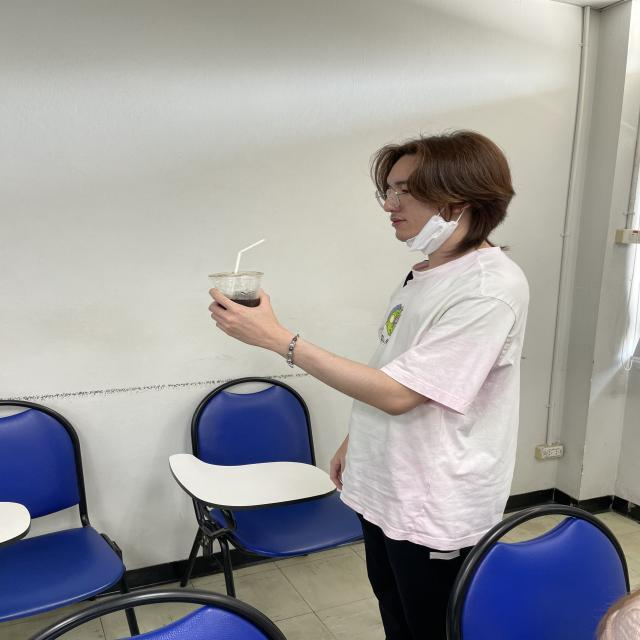cup: (206, 270, 266, 308)
